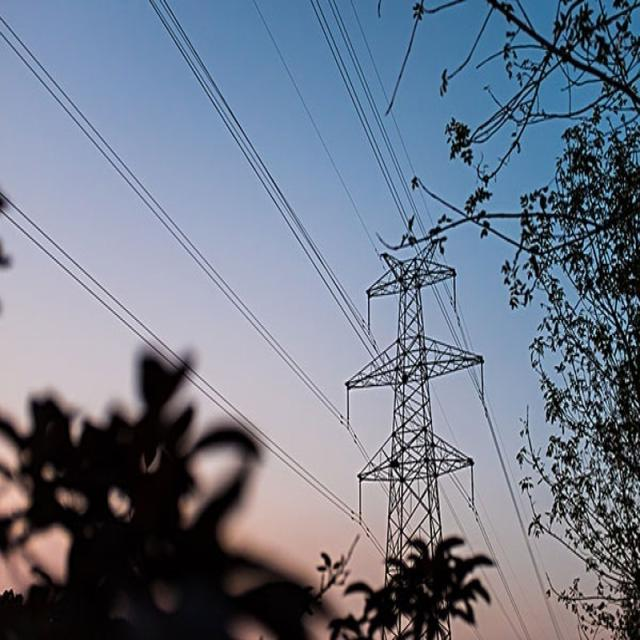non-critical vegetation: (338, 228, 481, 612)
